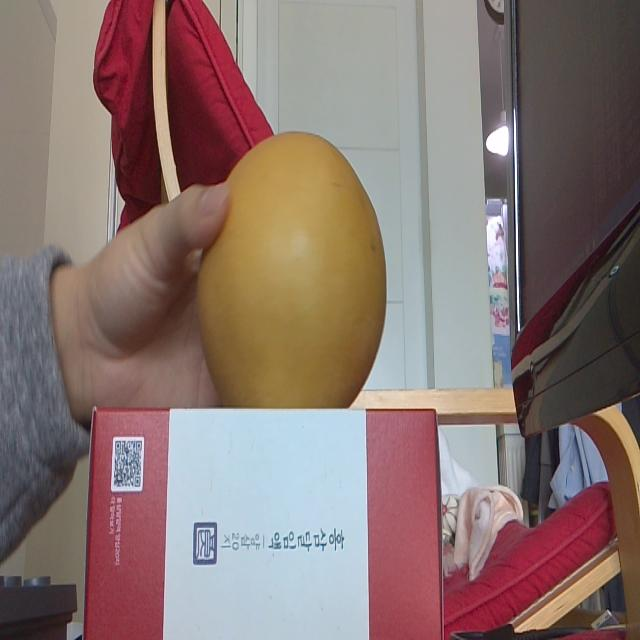pear: (195, 129, 387, 409)
